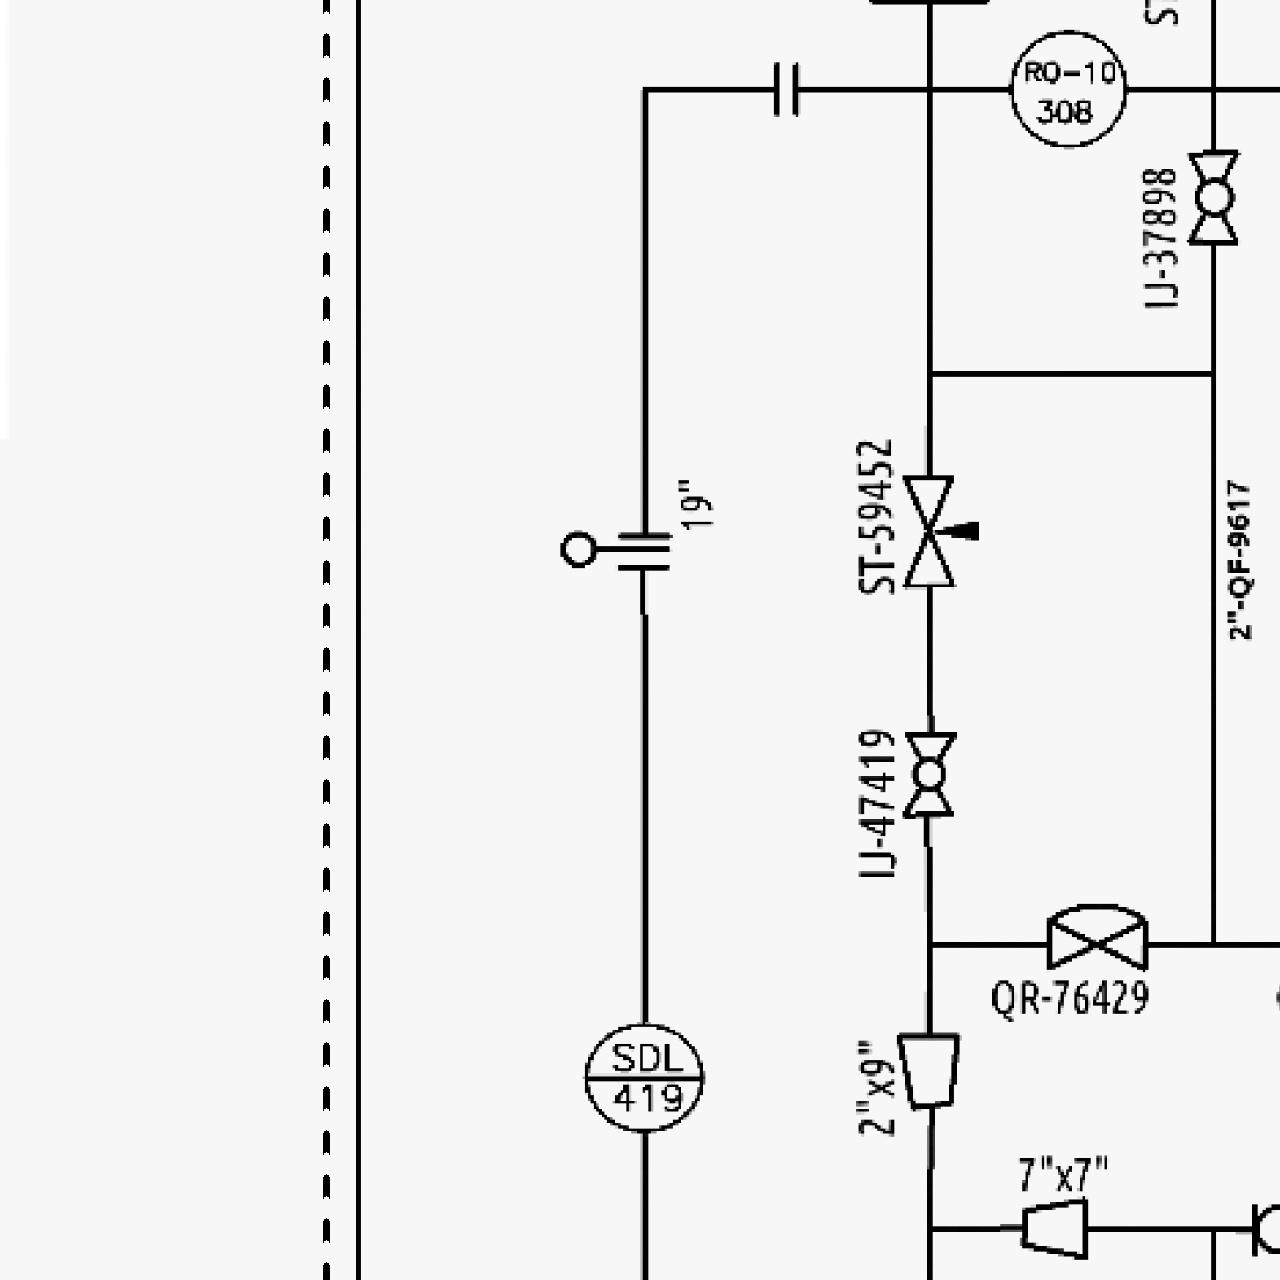Control-Panel: (1005, 23, 1131, 151)
